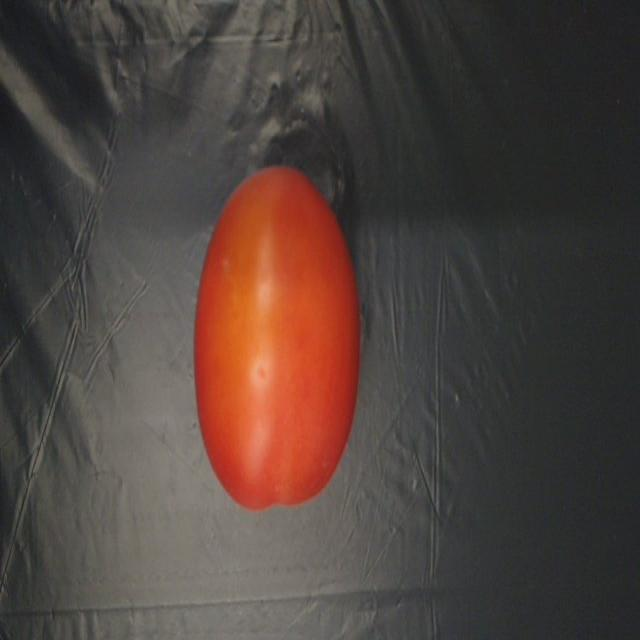sari: (180, 162, 379, 528)
